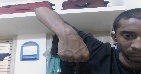hand: (56, 30, 91, 64)
